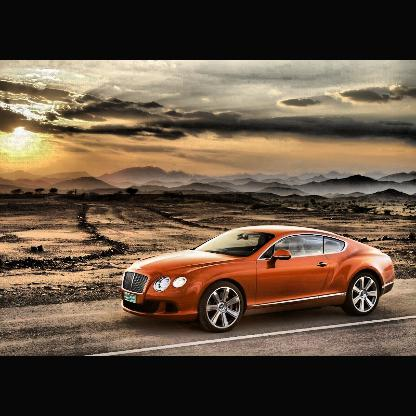Bentley Continental GT Coupe 2012: (119, 224, 399, 336)
